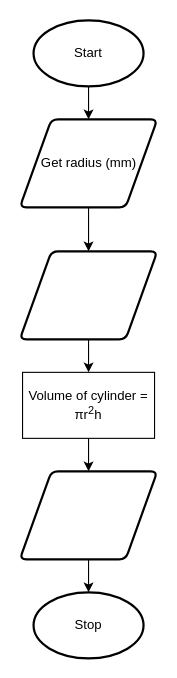
The diagram is 177 pixels wide and 678 high, and some of its shapes have lost their labels. Each missing label, with the box of its shape:
Get height (mm): (18, 250, 158, 340)
Return volume: (18, 470, 158, 560)
